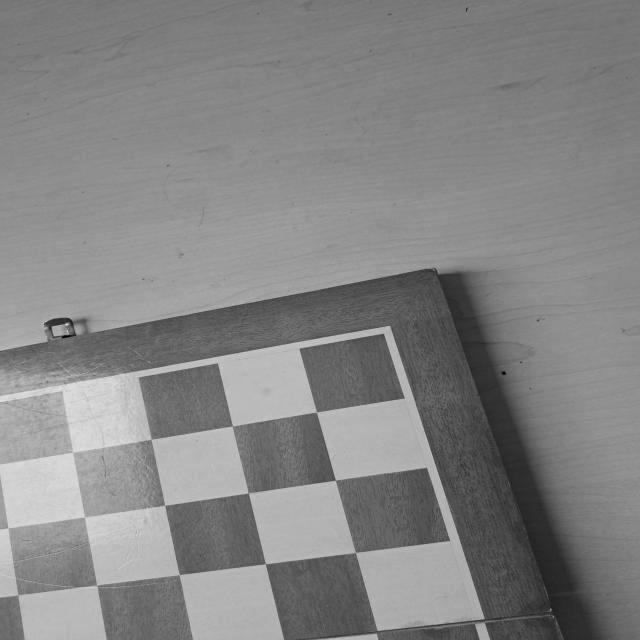chess-table-corners: (358, 320, 403, 350)
